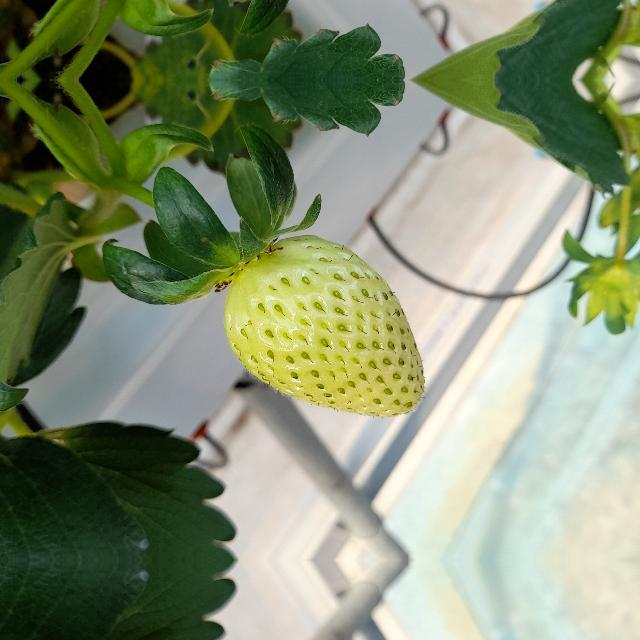Health_25: (222, 234, 428, 418)
